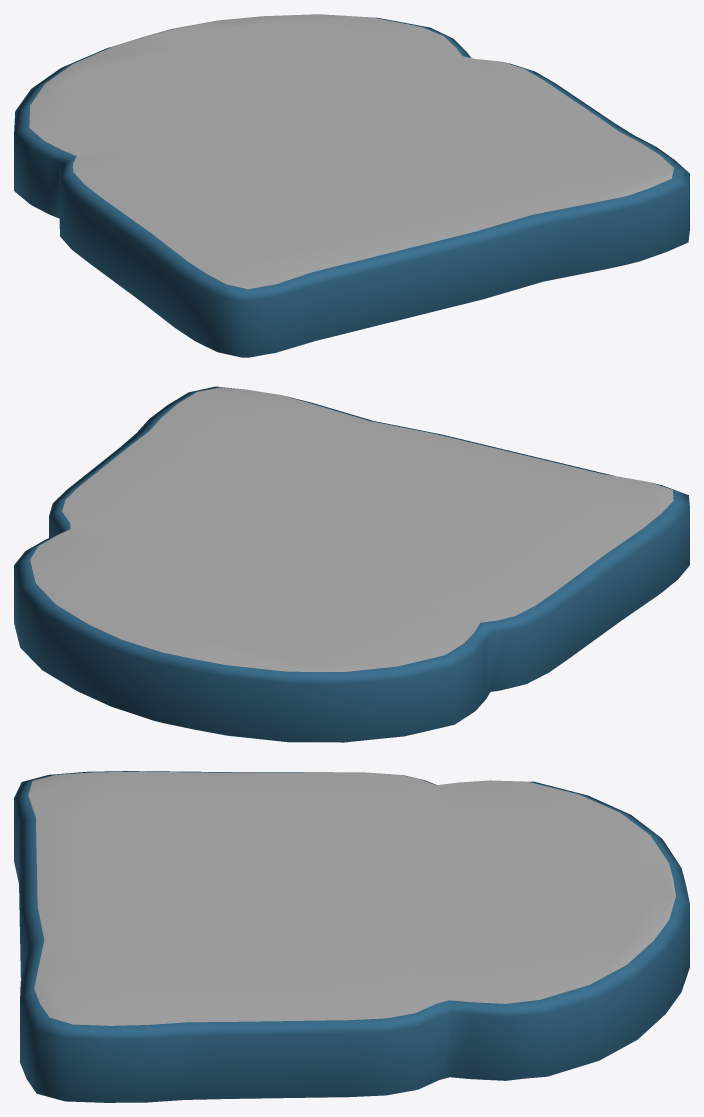
Rendered from ToastA_SM.fbx.
3 renders of one model, top to bottom at view 1: azimuth 30°, elevation 25°; view 2: azimuth 150°, elevation 25°; view 3: azimuth 270°, elevation 25°, orthographic. The views are drawn at different scales.
Visible parts, largest first — view 1: ToastA_SM; view 2: ToastA_SM; view 3: ToastA_SM.
Part boxes in pixels (box(x1,y1,x2,y2)): ToastA_SM: box(14, 14, 689, 357); ToastA_SM: box(14, 386, 689, 742); ToastA_SM: box(14, 771, 689, 1102).
Size of the model in its own units: 0.2709 by 0.0362 by 0.288.
